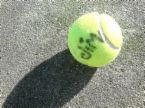tennis ball: (64, 9, 129, 68)
